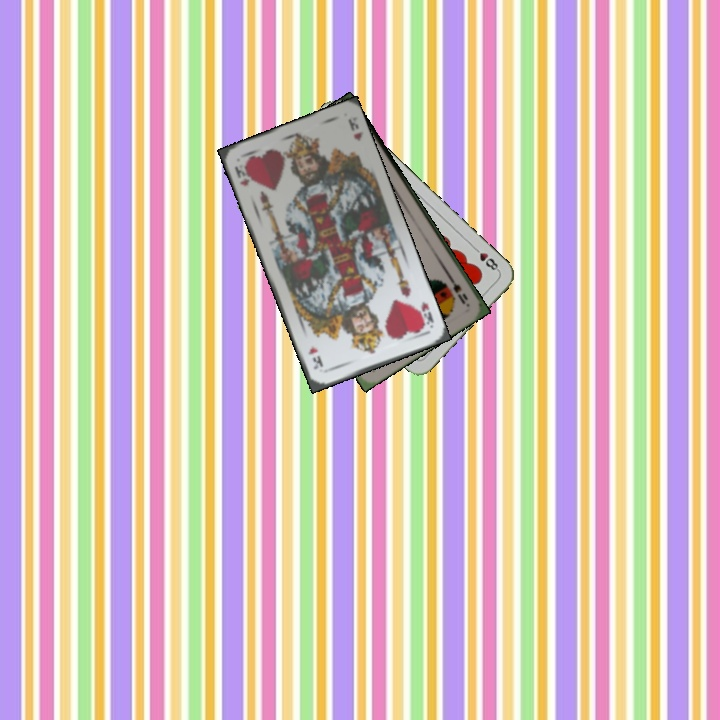H8: (469, 243, 502, 274)
HK: (413, 297, 436, 331), (230, 158, 254, 189)
SO: (444, 271, 471, 307)
